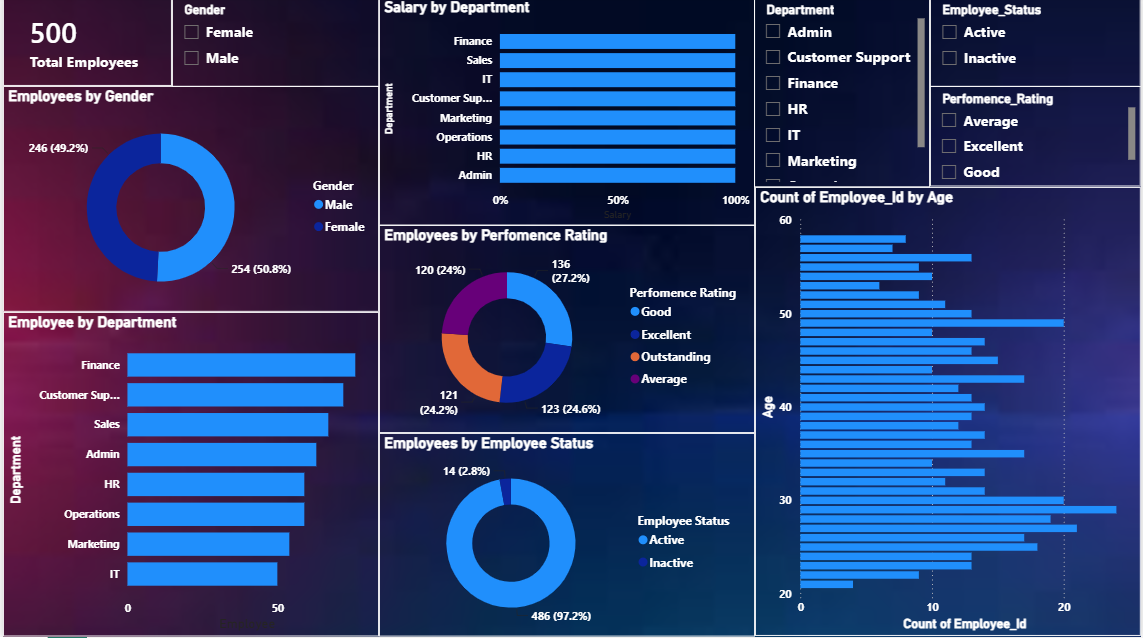

The dashboard page shown, as its layout file describes it:
{"tool":"powerbi","page":{"name":"Page 1","canvas":[1280,720],"ordinal":0},"visuals":[{"type":"cardVisual","fields":{"Data":["CountNonNull(Sheet2.Employee_Id)"]},"box":[0,0,190.2,100.2],"z":0},{"type":"donutChart","fields":{"Y":["CountNonNull(Sheet2.Employee_Id)"],"Category":["Sheet2.Gender"]},"box":[0,100.2,422.8,254.5],"z":1000},{"type":"clusteredBarChart","fields":{"Y":["CountNonNull(Sheet2.Employee_Id)"],"Category":["Sheet2.Department"]},"box":[0,354.7,422.8,365],"z":2000},{"type":"donutChart","fields":{"Y":["CountNonNull(Sheet2.Employee_Id)"],"Category":["Sheet2.Employee_Status"]},"box":[422.8,490.9,422.8,228.8],"z":3000},{"type":"donutChart","fields":{"Category":["Sheet2.Perfomence_Rating"],"Y":["CountNonNull(Sheet2.Employee_Id)"]},"box":[422.8,257,422.8,233.9],"z":4000},{"type":"barChart","fields":{"Y":["CountNonNull(Sheet2.Employee_Id)"],"Category":["Sheet2.Age"]},"box":[845.6,213.3,434.4,505.1],"z":5000},{"type":"hundredPercentStackedBarChart","fields":{"Y":["Sum(Sheet2.Salary)"],"Category":["Sheet2.Department"]},"box":[422.8,0,422.8,257],"z":6000},{"type":"slicer","fields":{"Values":["Sheet2.Gender"]},"box":[189.6,0,232.8,100.5],"z":7000},{"type":"slicer","fields":{"Values":["Sheet2.Department"]},"box":[844.9,0,198.5,213.8],"z":8000},{"type":"slicer","fields":{"Values":["Sheet2.Employee_Status"]},"box":[1043.3,0,236.7,100.5],"z":9000},{"type":"slicer","fields":{"Values":["Sheet2.Perfomence_Rating"]},"box":[1043.3,100.5,236.7,113.2],"z":10000}]}

Visuals, with their boxes in screenshot pixels (x1, y1, x2, y2), scaled from the page's 1280x720 canvas onto the 1143x638 screenshot:
cardVisual - CountNonNull(Sheet2.Employee_Id): {"x1": 0, "y1": 0, "x2": 170, "y2": 89}
donutChart - CountNonNull(Sheet2.Employee_Id) x Sheet2.Gender: {"x1": 0, "y1": 89, "x2": 378, "y2": 314}
clusteredBarChart - CountNonNull(Sheet2.Employee_Id) x Sheet2.Department: {"x1": 0, "y1": 314, "x2": 378, "y2": 637}
donutChart - CountNonNull(Sheet2.Employee_Id) x Sheet2.Employee_Status: {"x1": 378, "y1": 435, "x2": 755, "y2": 637}
donutChart - Sheet2.Perfomence_Rating x CountNonNull(Sheet2.Employee_Id): {"x1": 378, "y1": 228, "x2": 755, "y2": 435}
barChart - CountNonNull(Sheet2.Employee_Id) x Sheet2.Age: {"x1": 755, "y1": 189, "x2": 1142, "y2": 637}
hundredPercentStackedBarChart - Sum(Sheet2.Salary) x Sheet2.Department: {"x1": 378, "y1": 0, "x2": 755, "y2": 228}
slicer - Sheet2.Gender: {"x1": 169, "y1": 0, "x2": 377, "y2": 89}
slicer - Sheet2.Department: {"x1": 754, "y1": 0, "x2": 932, "y2": 189}
slicer - Sheet2.Employee_Status: {"x1": 932, "y1": 0, "x2": 1142, "y2": 89}
slicer - Sheet2.Perfomence_Rating: {"x1": 932, "y1": 89, "x2": 1142, "y2": 189}
